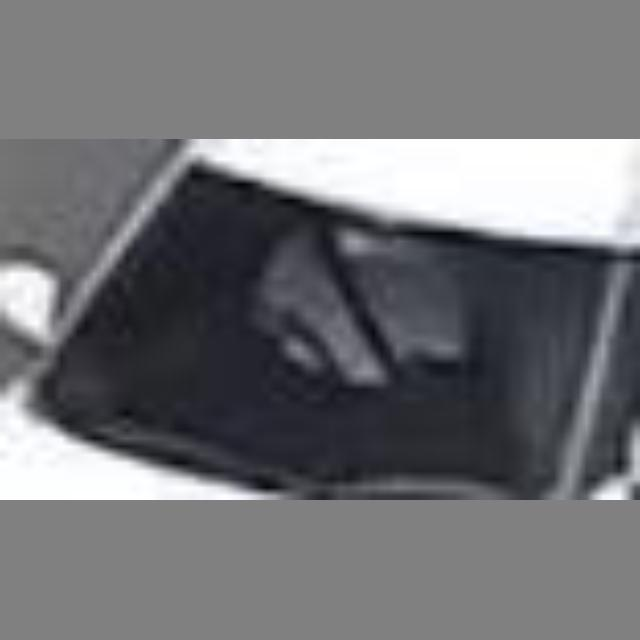pakai: (254, 196, 468, 410)
